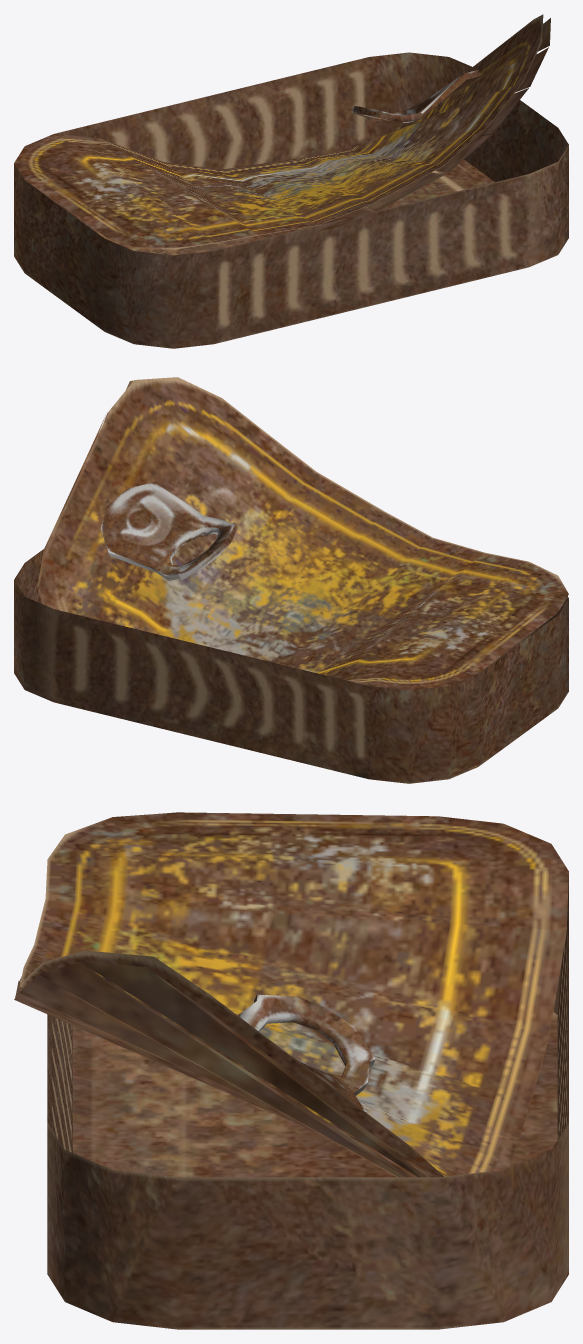
Rendered from SM_TrashCan_05_E.fbx.
3 views of the same model, one above another, from view 1: azimuth 30°, elevation 25°; view 2: azimuth 150°, elevation 25°; view 3: azimuth 270°, elevation 25° (orthographic). The views are drawn at different scales.
Visible parts, largest first — view 1: SM_TrashCan_05_E; view 2: SM_TrashCan_05_E; view 3: SM_TrashCan_05_E.
Boxes of the visible parts, x1=… form: SM_TrashCan_05_E: x1=14, y1=14, x2=568, y2=348; SM_TrashCan_05_E: x1=14, y1=377, x2=568, y2=783; SM_TrashCan_05_E: x1=14, y1=812, x2=568, y2=1329.
Bounding box in the file's own units: 18.02 × 11.71 × 8.27.
Materials: 1 (1 with a texture image).
